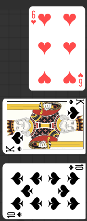10C: (67, 164, 84, 172)
4H: (76, 72, 83, 88)
